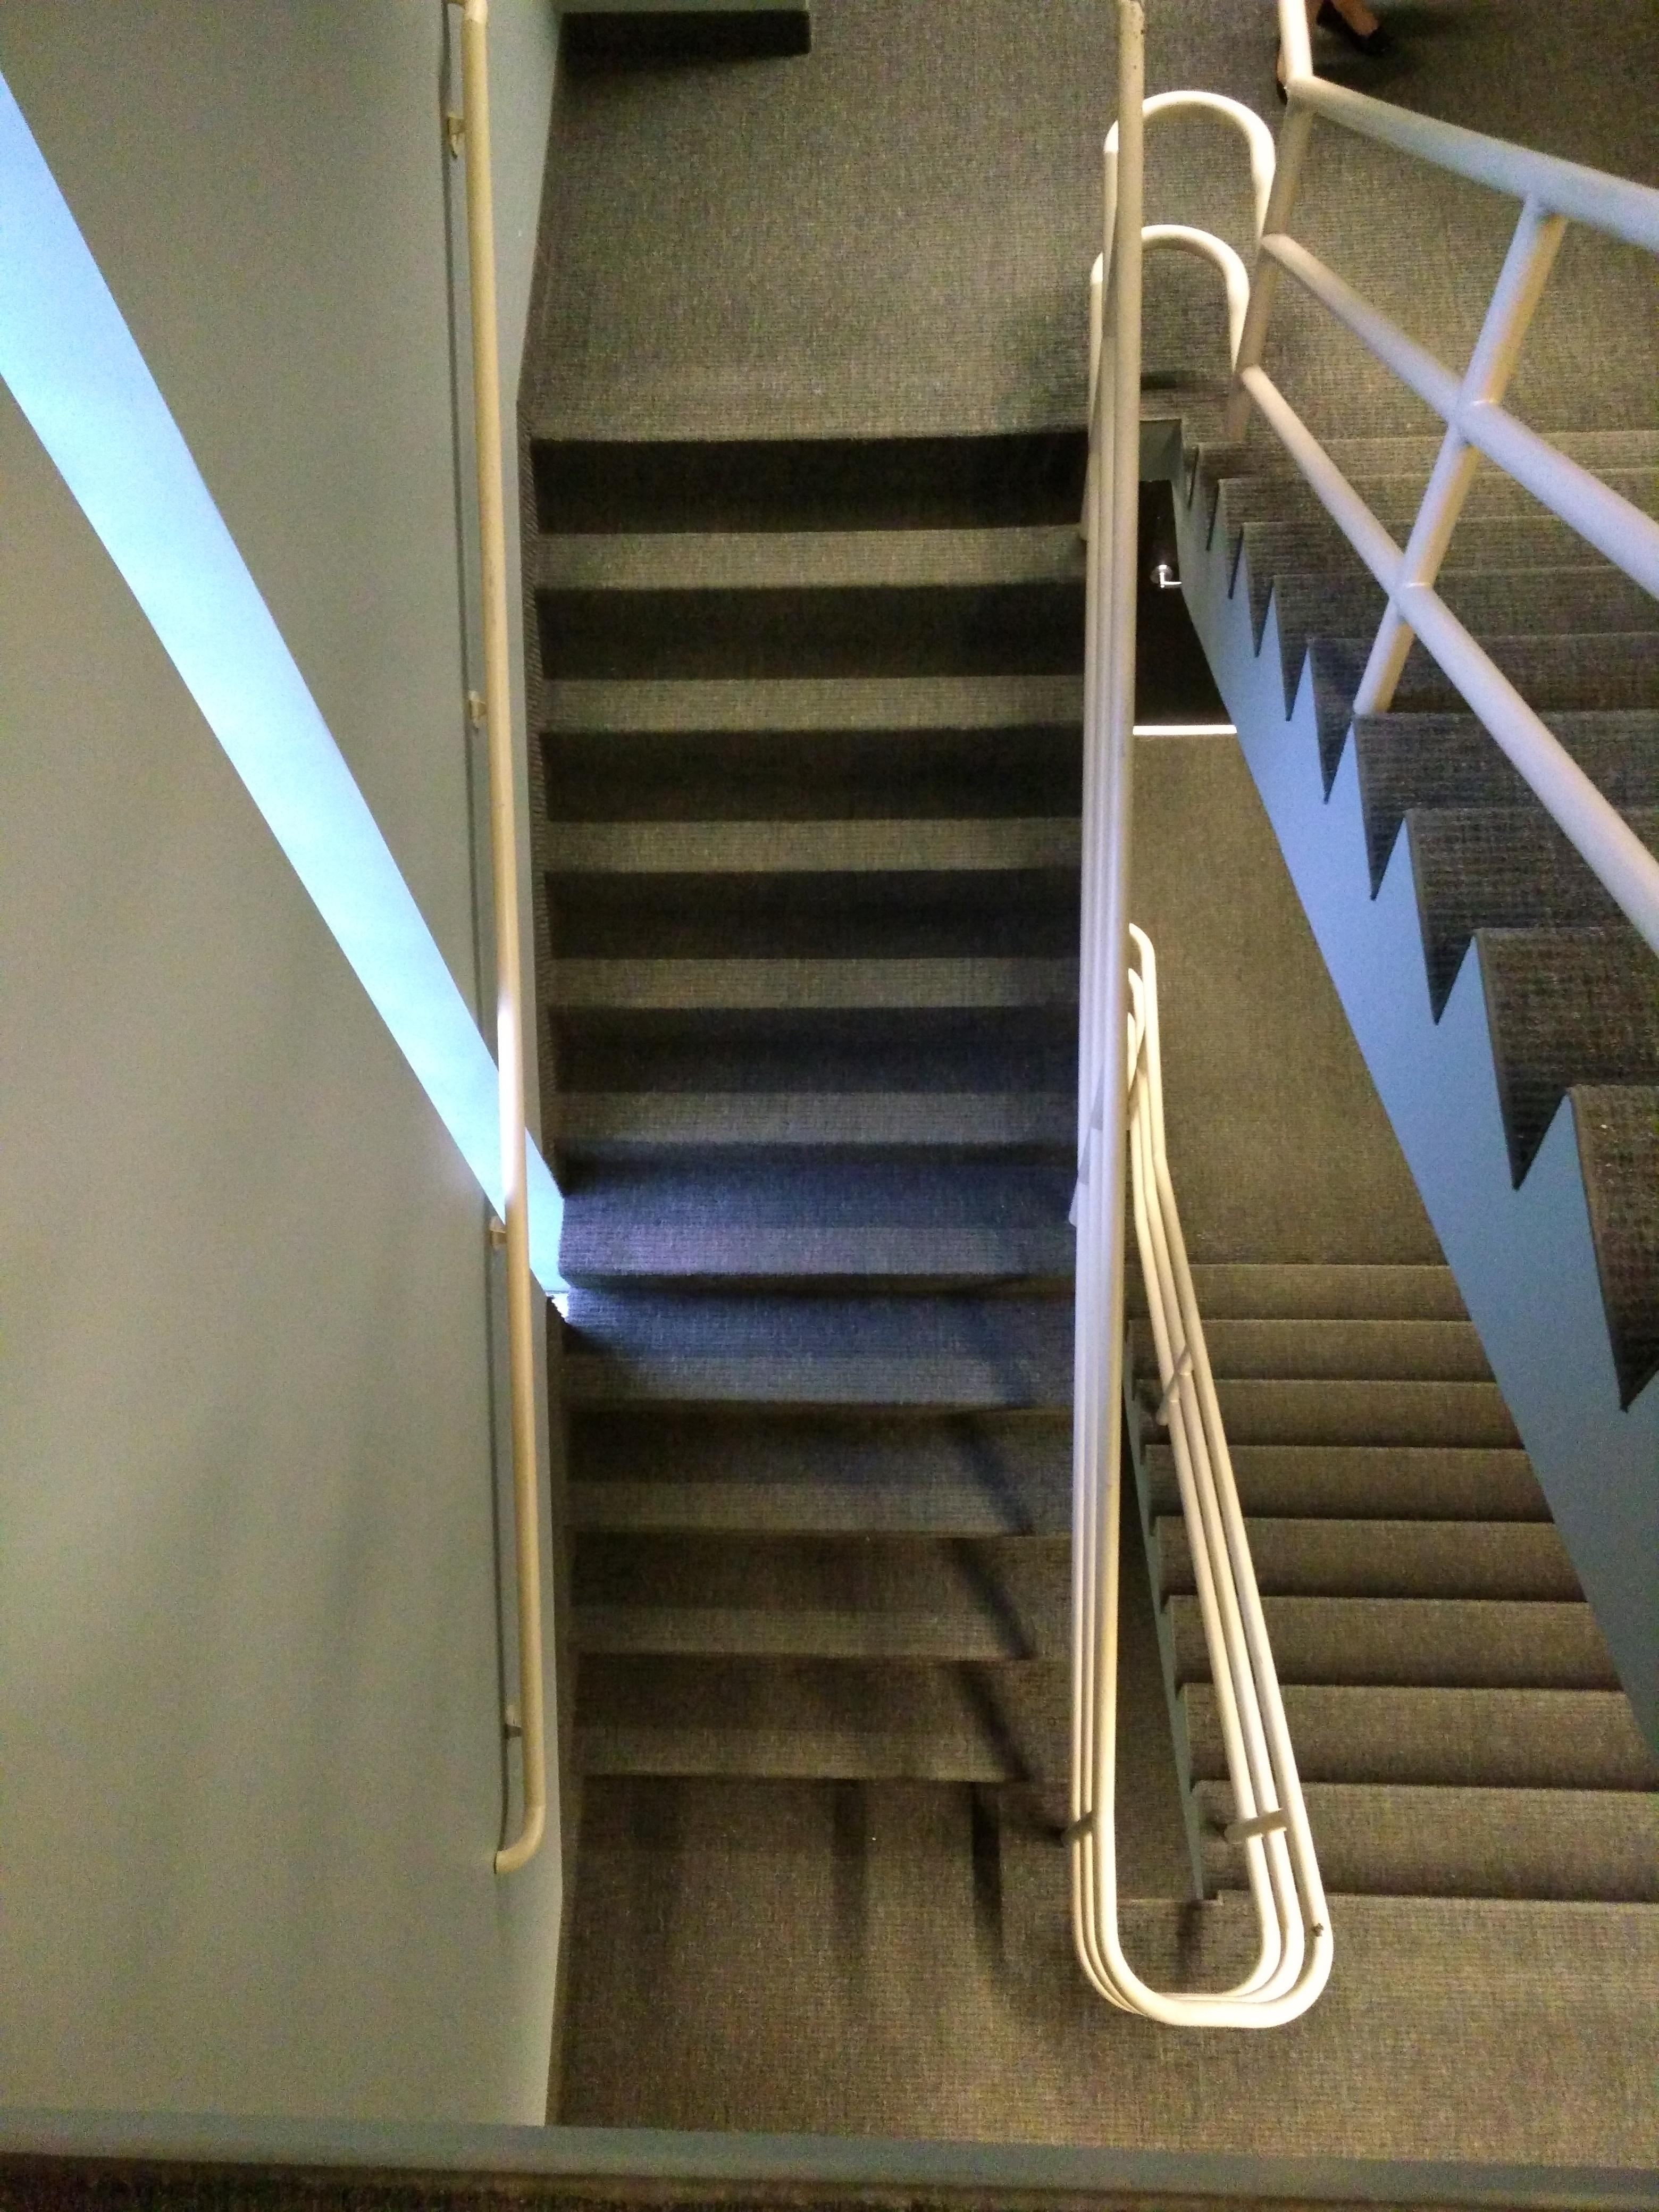stairs_down: (1178, 1374, 1568, 1911)
stairs_up: (579, 294, 1065, 1890)
